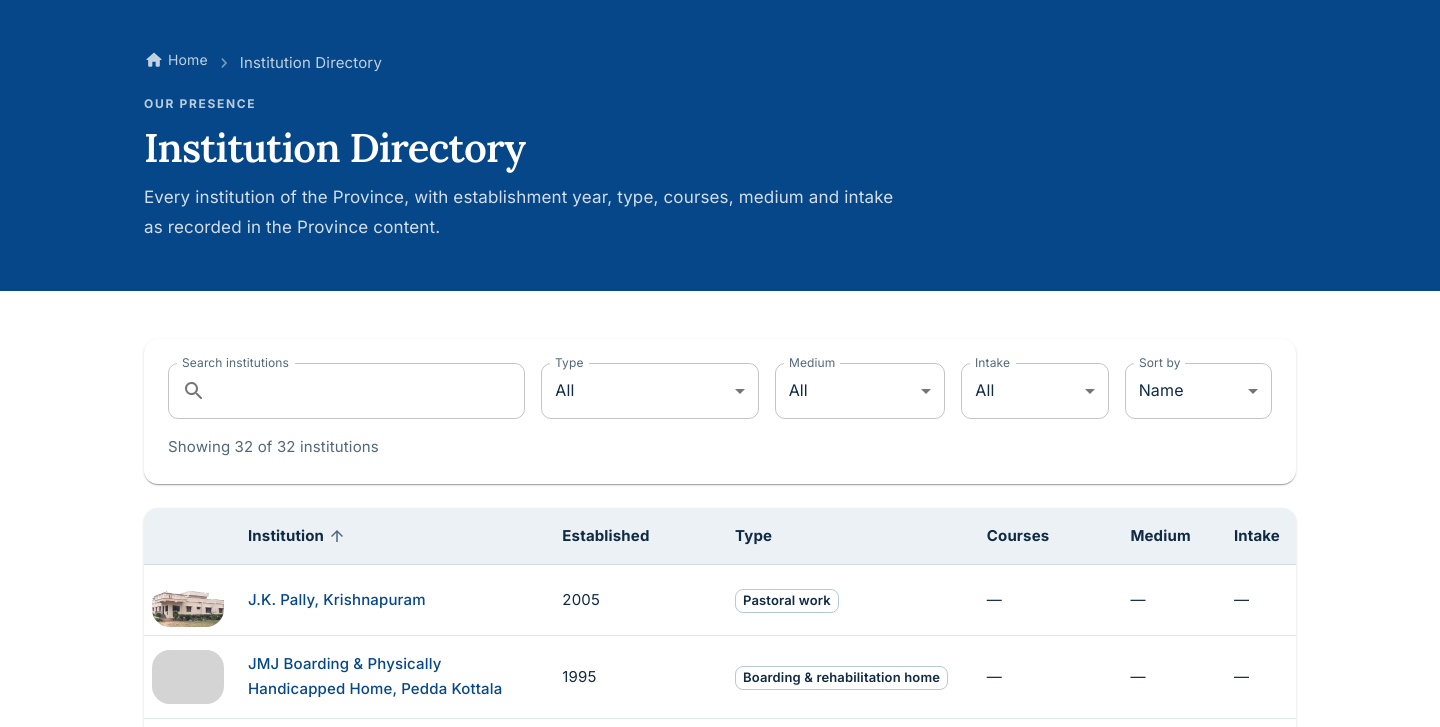
Test case: InstitutionsPage › shows an empty state when nothing matches
The image size is (1440, 727).
In the field labelled "Search institutions": {"x": 370, "y": 391} left=214, top=363, right=525, bottom=419, type "zzzznotthere"
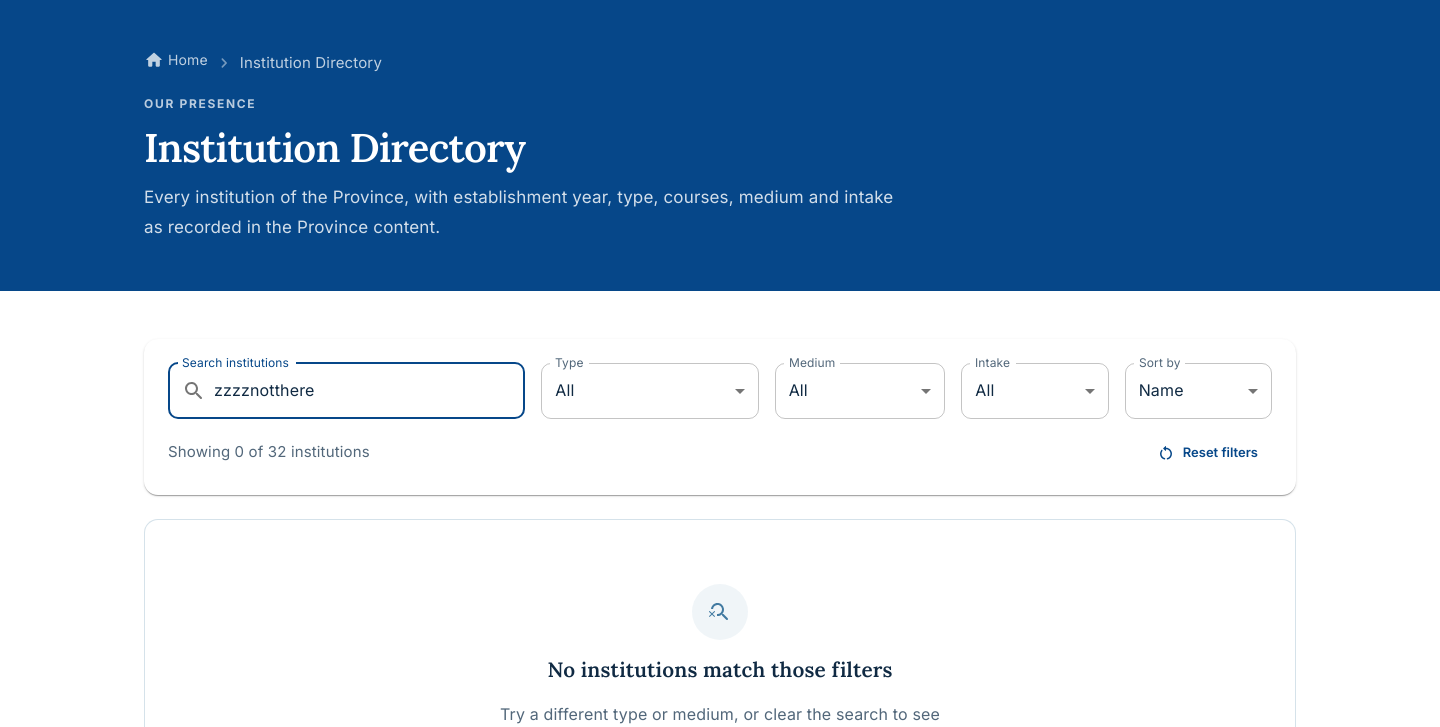
expect the text "No institutions match those filters" is shown: met, box left=548, top=656, right=892, bottom=684
